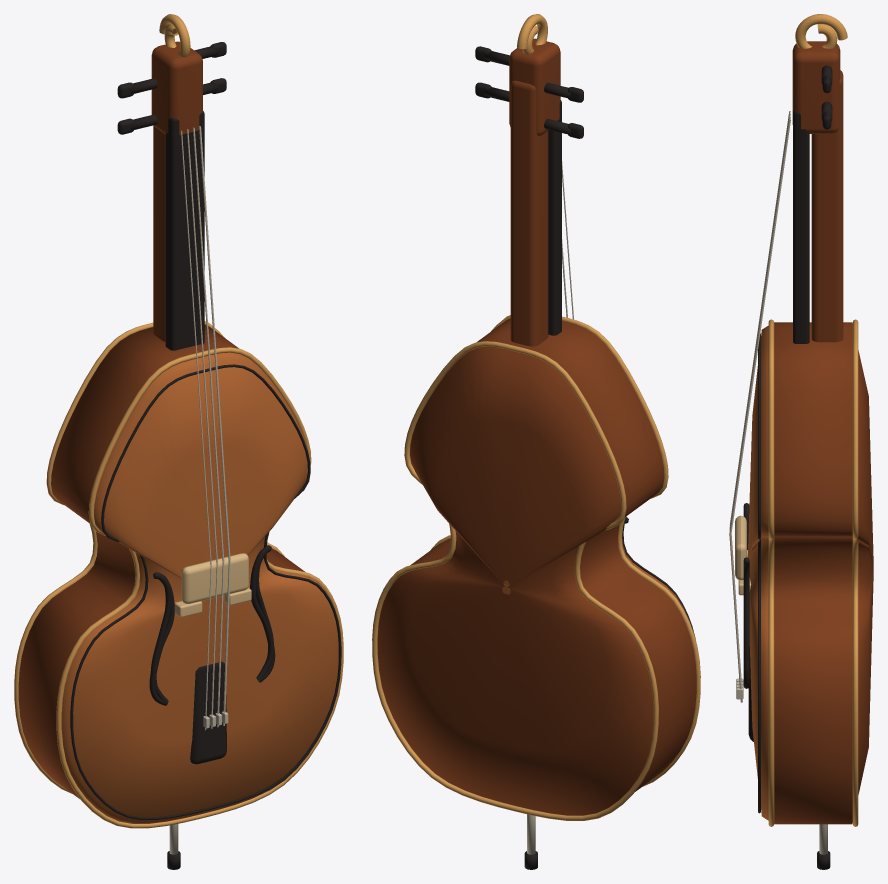
Rendered from double-bass.glb.
The picture shows the model from 3 angles, left to right: view 1: azimuth 30°, elevation 25°; view 2: azimuth 150°, elevation 25°; view 3: azimuth 270°, elevation 25°; orthographic projection.
Parts seen in each view (by area): view 1: Carved amber body.001, Ebony fingerboard.001, Inlaid purfling.003, Inlaid purfling.004, Carved peg box.001, Inlaid purfling.005, Tailpiece.001, Maple neck.001, Carved bridge.001, Wound string.007, Wound string.006, Wound string.005 (+4 smaller); view 2: Carved amber body.001, Maple neck.001, Inlaid purfling.005, Ebony fingerboard.001, Carved peg box.001, Inlaid purfling.003, Carved scroll.001; view 3: Carved amber body.001, Maple neck.001, Ebony fingerboard.001, Carved peg box.001, Inlaid purfling.003, Inlaid purfling.005, Wound string.007, Inlaid purfling.004, Carved scroll.001, F hole.003, Carved bridge.001, Wound string.006 (+2 smaller).
Boxes of the visible parts, box(x1,y1,x2,y2) form: Carved amber body.001: box(18, 324, 338, 823); Ebony fingerboard.001: box(165, 111, 204, 350); Inlaid purfling.003: box(56, 347, 343, 828); Inlaid purfling.004: box(70, 364, 341, 819); Carved peg box.001: box(151, 41, 202, 134); Inlaid purfling.005: box(14, 321, 284, 793); Tailpiece.001: box(190, 661, 226, 764); Maple neck.001: box(153, 125, 165, 341); Carved bridge.001: box(181, 553, 248, 603); Wound string.007: box(199, 126, 230, 725); Wound string.006: box(193, 127, 224, 727); Wound string.005: box(187, 129, 217, 728); Carved amber body.001: box(377, 318, 696, 815); Maple neck.001: box(510, 80, 548, 346); Inlaid purfling.005: box(372, 341, 658, 820); Ebony fingerboard.001: box(548, 100, 561, 335); Carved peg box.001: box(509, 38, 560, 135); Inlaid purfling.003: box(431, 315, 700, 786); Carved scroll.001: box(517, 14, 547, 54); Carved amber body.001: box(747, 322, 873, 824); Maple neck.001: box(811, 70, 843, 342); Ebony fingerboard.001: box(793, 110, 809, 343); Carved peg box.001: box(792, 41, 840, 133); Inlaid purfling.003: box(768, 319, 774, 826); Inlaid purfling.005: box(852, 319, 858, 826); Wound string.007: box(729, 119, 790, 702); Inlaid purfling.004: box(758, 333, 760, 813); Carved scroll.001: box(795, 14, 847, 48); F hole.003: box(743, 557, 749, 688); Carved bridge.001: box(735, 515, 746, 580); Wound string.006: box(729, 116, 790, 685).
Size of the model in its own units: 0.6968 by 1.98 by 0.3033.
